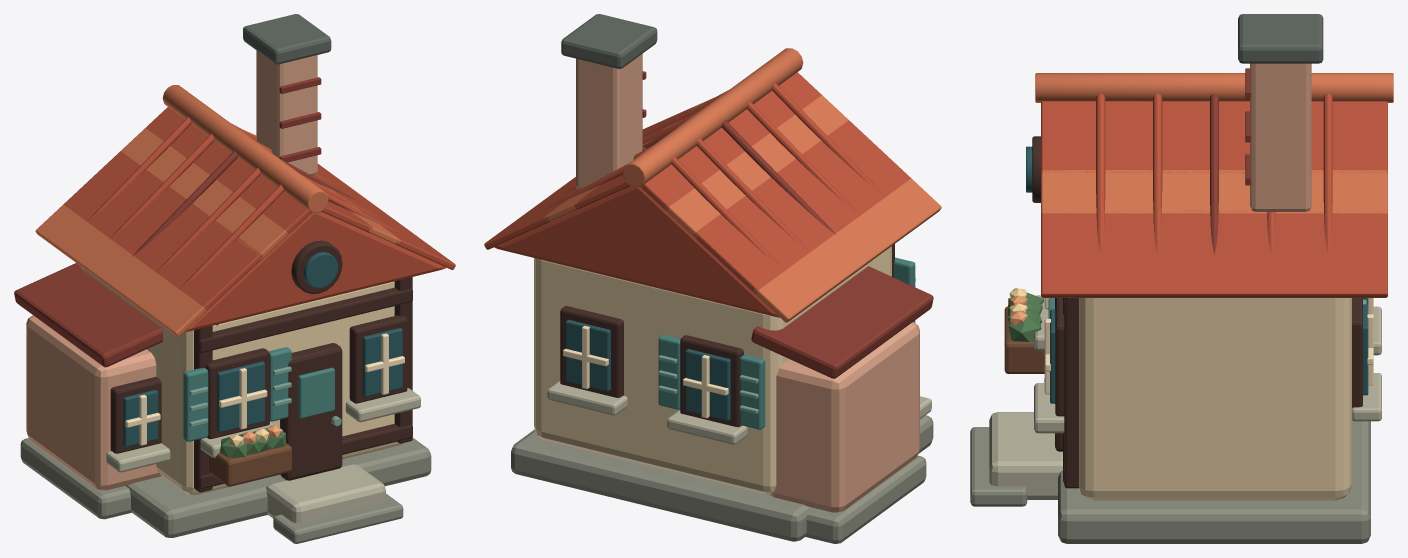
The model's file is house.glb.
3 views of the same model, side by side, from view 1: azimuth 30°, elevation 25°; view 2: azimuth 150°, elevation 25°; view 3: azimuth 270°, elevation 25° (orthographic). The views are drawn at different scales.
Visible parts, largest first — view 1: house · tile, house · wood, house · plaster_rose, house · tile_light, house · stone, house · plaster, house · tile_dark, house · stone_light, house · window, house · copper, house · stone_dark, house · wood_light (+3 smaller); view 2: house · tile, house · plaster, house · plaster_rose, house · tile_light, house · stone, house · tile_dark, house · wood, house · window, house · stone_dark, house · copper, house · stone_light, house · plaster_light (+1 smaller); view 3: house · plaster, house · tile, house · tile_light, house · stone, house · plaster_rose, house · stone_light, house · wood, house · stone_dark, house · tile_dark, house · window, house · wood_light, house · plaster_light (+1 smaller).
Boxes of the visible parts, <box> form: house · tile: <box>63,107,455,332</box>; house · wood: <box>110,240,412,492</box>; house · plaster_rose: <box>26,50,317,490</box>; house · tile_light: <box>35,85,400,336</box>; house · stone: <box>20,437,431,543</box>; house · plaster: <box>81,267,403,494</box>; house · tile_dark: <box>14,77,357,367</box>; house · stone_light: <box>106,388,420,523</box>; house · window: <box>123,252,402,447</box>; house · copper: <box>183,347,334,441</box>; house · stone_dark: <box>243,14,331,64</box>; house · wood_light: <box>208,443,291,486</box>; house · tile: <box>484,72,911,317</box>; house · plaster: <box>534,246,891,494</box>; house · plaster_rose: <box>576,54,919,512</box>; house · tile_light: <box>544,48,941,322</box>; house · stone: <box>511,415,933,543</box>; house · tile_dark: <box>642,71,933,378</box>; house · wood: <box>560,244,894,427</box>; house · window: <box>565,319,730,420</box>; house · stone_dark: <box>561,14,657,68</box>; house · copper: <box>658,257,915,429</box>; house · stone_light: <box>547,381,931,444</box>; house · plaster_light: <box>563,326,728,418</box>; house · plaster: <box>1078,298,1351,500</box>; house · tile: <box>1041,93,1387,297</box>; house · tile_light: <box>1035,73,1393,213</box>; house · stone: <box>970,420,1370,543</box>; house · plaster_rose: <box>1250,63,1311,211</box>; house · stone_light: <box>989,295,1381,499</box>; house · wood: <box>1032,136,1362,488</box>; house · stone_dark: <box>1238,14,1323,63</box>; house · tile_dark: <box>1210,68,1250,254</box>; house · window: <box>1026,146,1368,403</box>; house · wood_light: <box>1004,306,1044,373</box>; house · plaster_light: <box>1044,298,1373,394</box>.
Bounding box in the file's own units: 0.9404 × 1.13 × 0.893.
